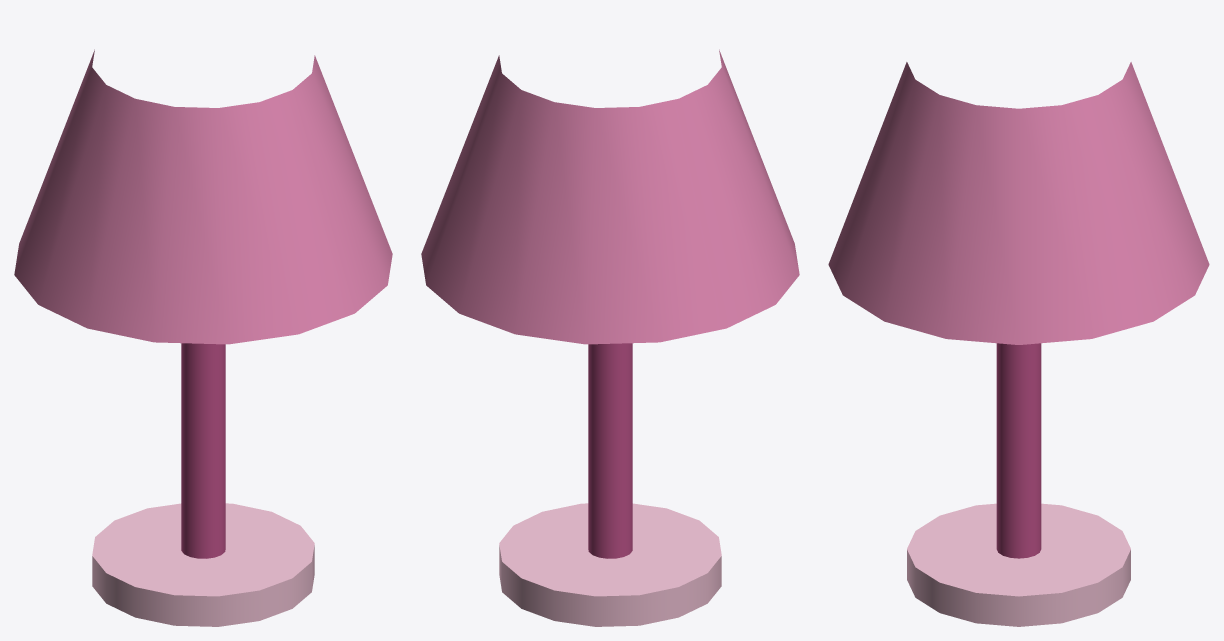
The model's file is table_lamp.glb.
3 renders of one model, left to right at view 1: azimuth 30°, elevation 25°; view 2: azimuth 150°, elevation 25°; view 3: azimuth 270°, elevation 25°, orthographic.
Visible parts, largest first — view 1: root; view 2: root; view 3: root.
Boxes of the visible parts, x1,y1,x2,y2 form: root: (14, 49, 392, 626); root: (421, 49, 799, 626); root: (828, 62, 1209, 626).
Size of the model in its own units: 0.34 by 0.51 by 0.34.
